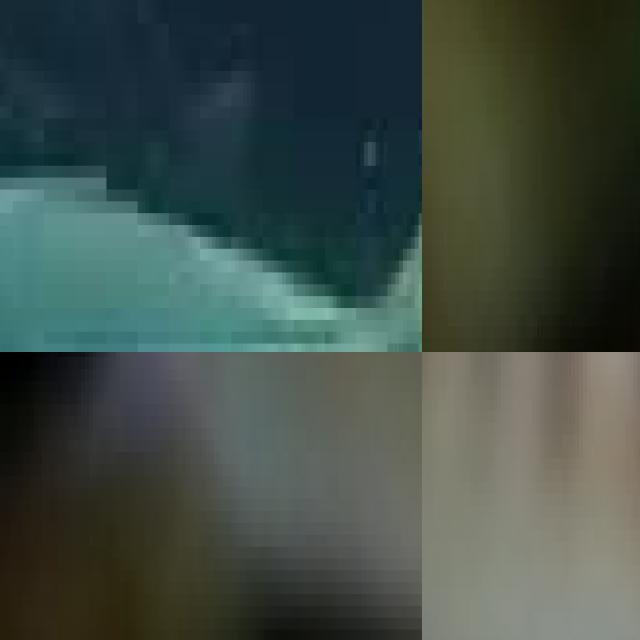fish: (0, 0, 422, 352), (422, 352, 640, 640)
